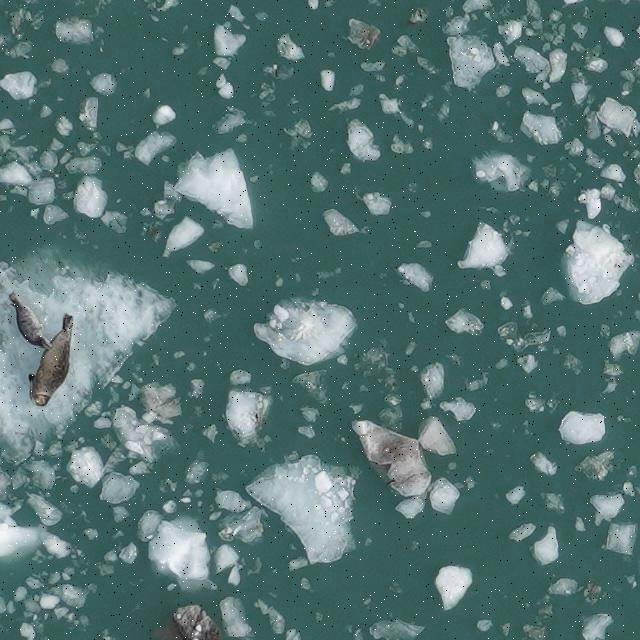seal: (31, 312, 73, 407), (9, 293, 48, 347)
